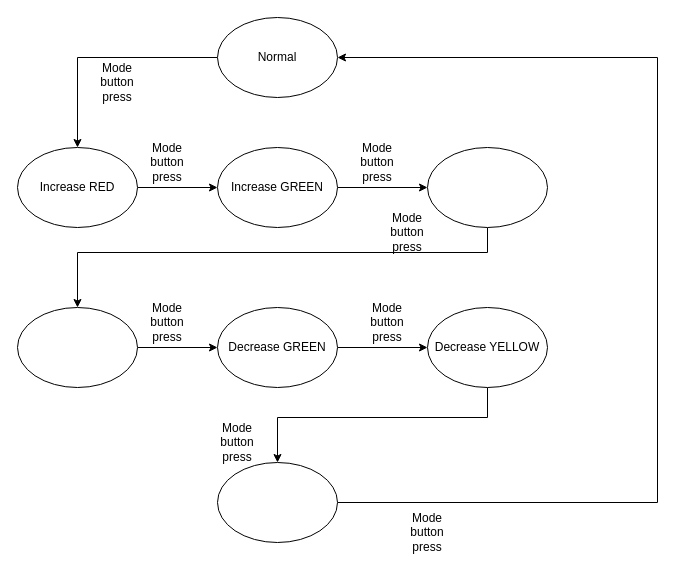
Some shapes in this 683 by 571 pixel diagram are drawn without their labels. Each missing label, with the centre of its shape:
Confirm: point (277, 502)
Decrease RED: point (77, 347)
Increase YELLOW: point (487, 187)
